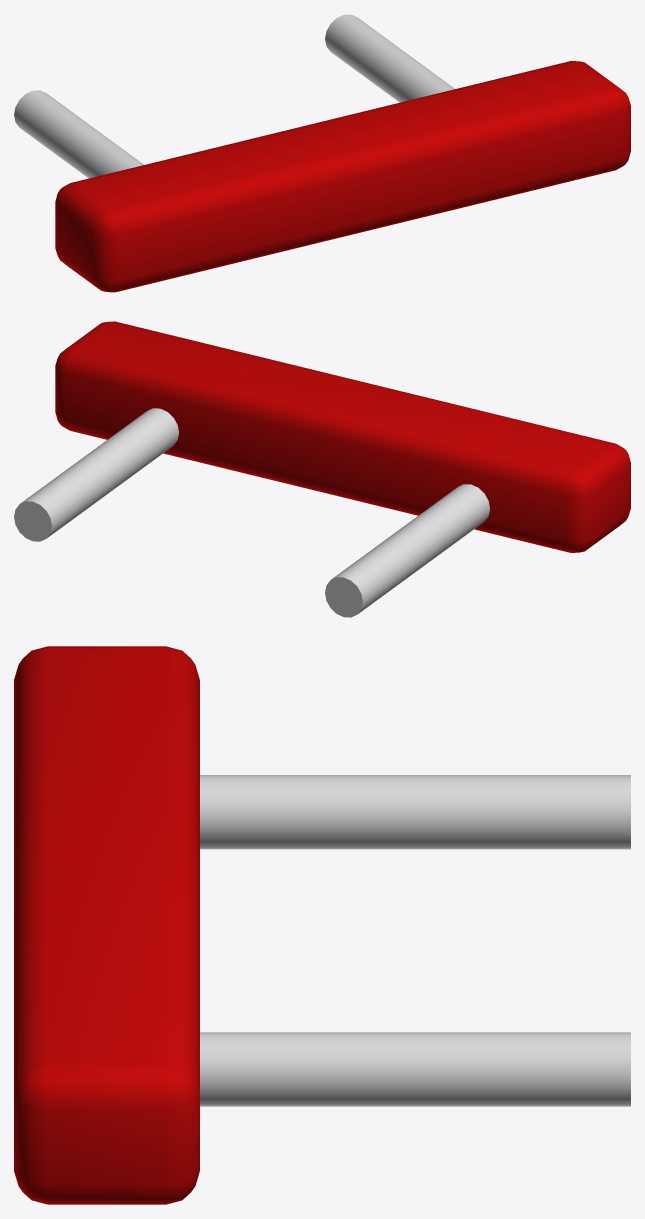
3 renders of one model, top to bottom at view 1: azimuth 30°, elevation 25°; view 2: azimuth 150°, elevation 25°; view 3: azimuth 270°, elevation 25°, orthographic. The views are drawn at different scales.
Visible parts, largest first — view 1: xylophone_v7_default; view 2: xylophone_v7_default; view 3: xylophone_v7_default.
Part boxes in pixels (x1,y1,x2,y2): xylophone_v7_default: [14, 14, 630, 292]; xylophone_v7_default: [14, 321, 630, 617]; xylophone_v7_default: [14, 646, 630, 1204].
Size of the model in its own units: 0.62 by 0.09 by 0.365.
